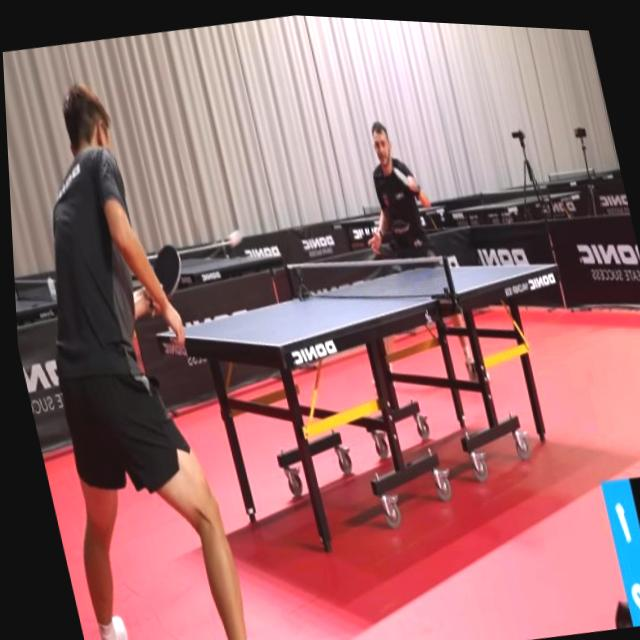TT Net: (282, 254, 456, 302), (14, 275, 120, 302), (479, 182, 560, 204), (361, 199, 428, 217), (546, 166, 597, 184)
TT Racket: (141, 238, 191, 306), (390, 164, 411, 189)
TT Table: (157, 263, 557, 346), (15, 257, 274, 312), (448, 191, 580, 211), (331, 206, 446, 222)
